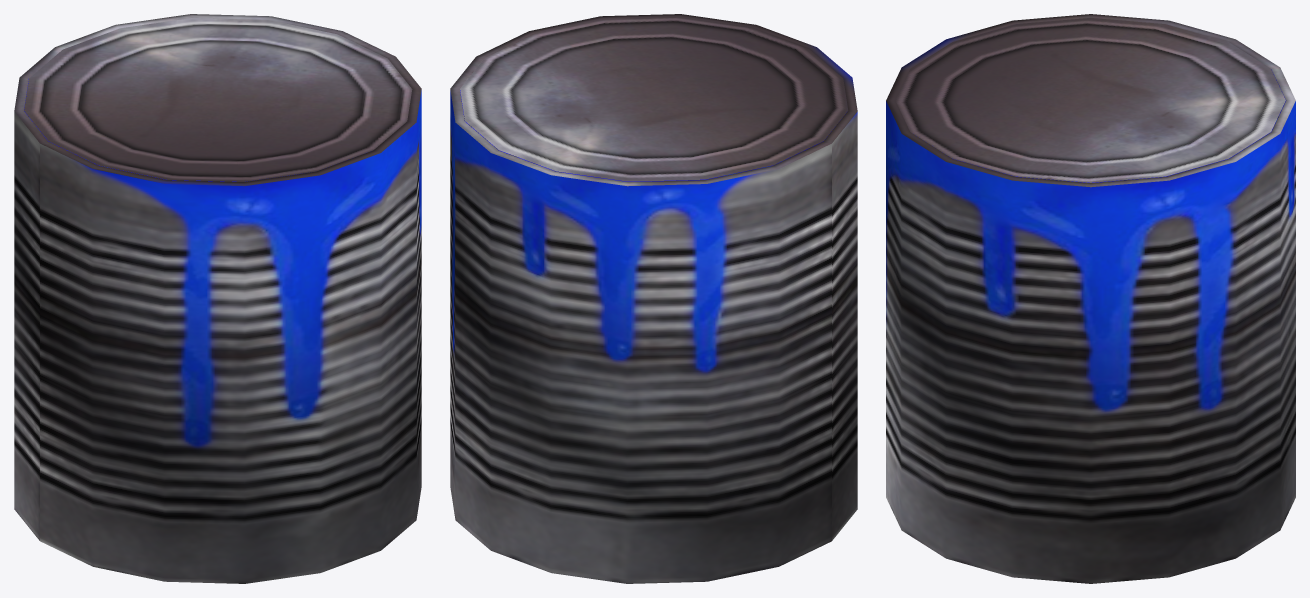
Rendered from Can_paint.fbx.
3 renders of one model, left to right at view 1: azimuth 30°, elevation 25°; view 2: azimuth 150°, elevation 25°; view 3: azimuth 270°, elevation 25°, orthographic.
Parts seen in each view (by area): view 1: can_paint, can_paint_lid; view 2: can_paint, can_paint_lid; view 3: can_paint, can_paint_lid.
Part boxes in pixels (<box>): can_paint: <box>14,14,421,583</box>; can_paint_lid: <box>24,18,412,181</box>; can_paint: <box>450,14,857,583</box>; can_paint_lid: <box>460,17,848,181</box>; can_paint: <box>886,14,1295,583</box>; can_paint_lid: <box>895,18,1285,182</box>.
Bounding box in the file's own units: 16 × 17.1 × 16.
